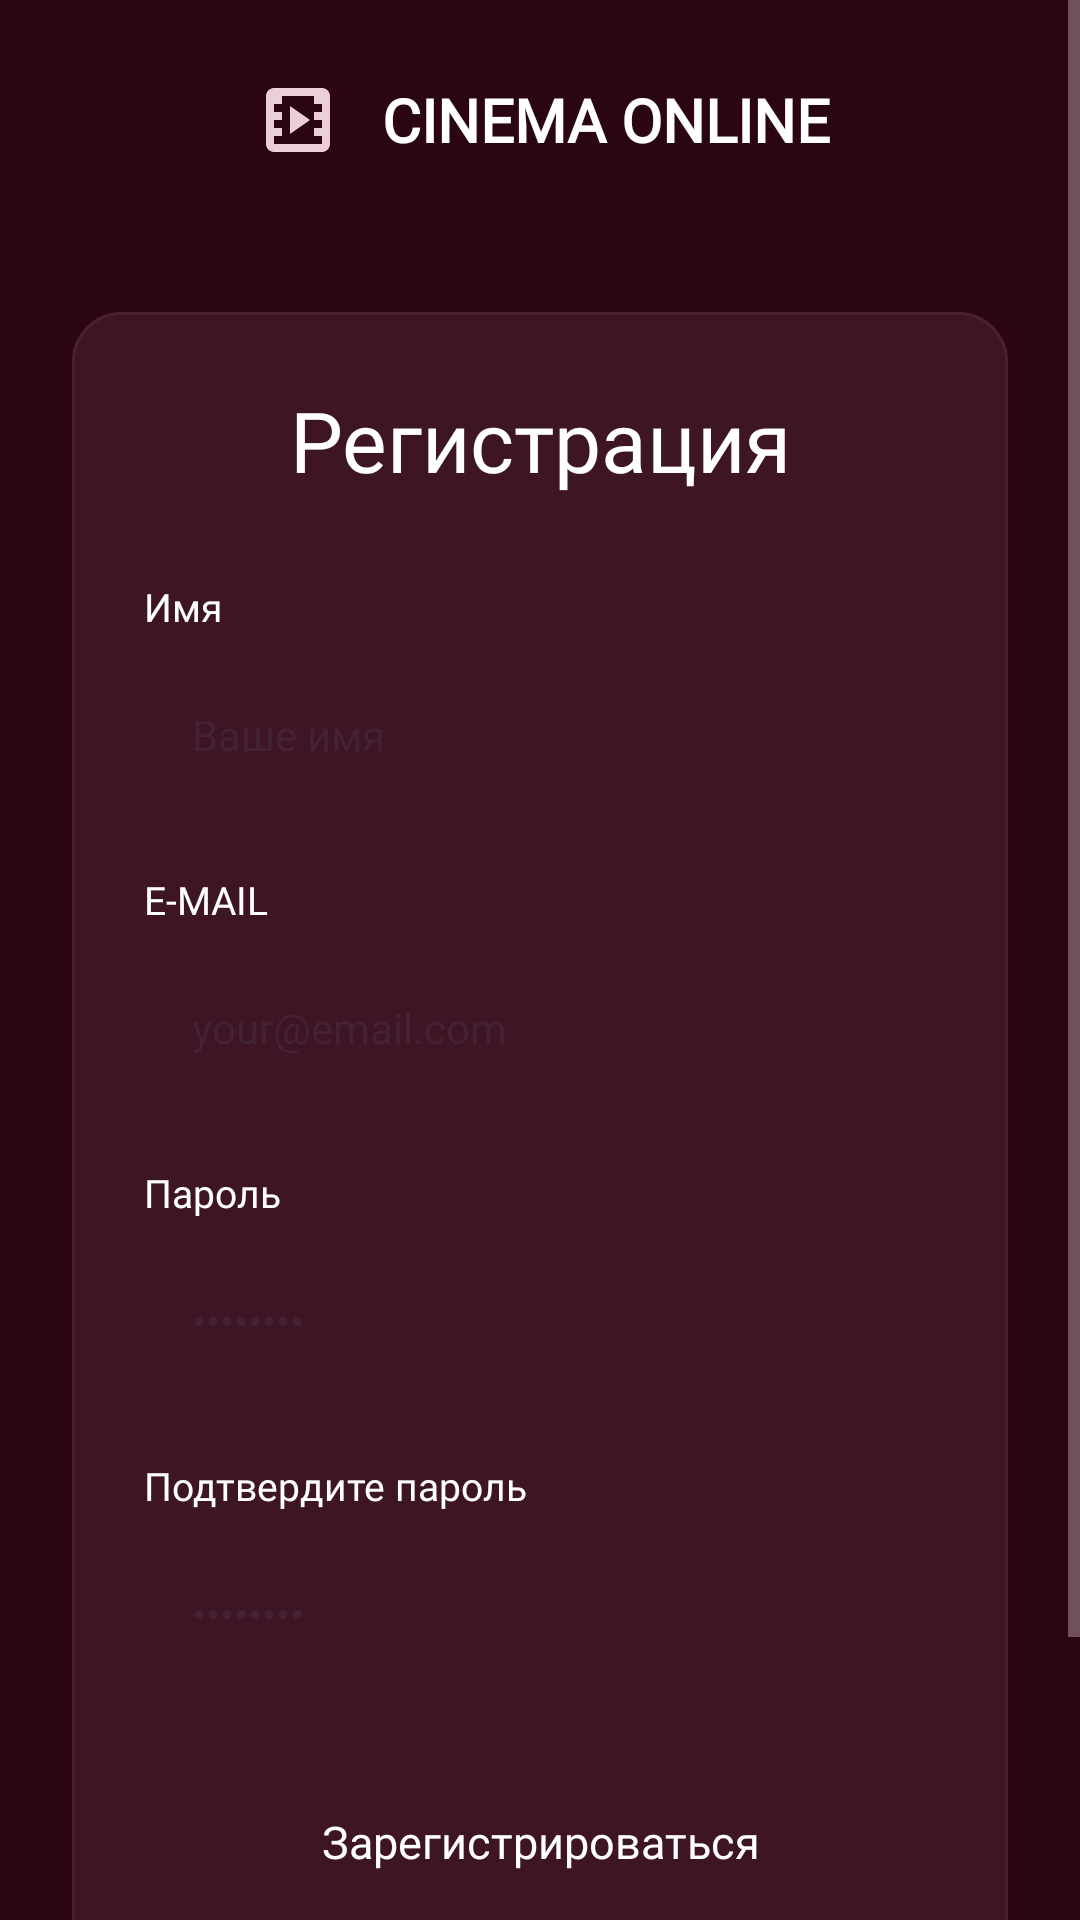

Where icons sit on this 1080w x 1920h app screen, as [x1,y1,x2,y2]:
film: [266,88,330,152]
